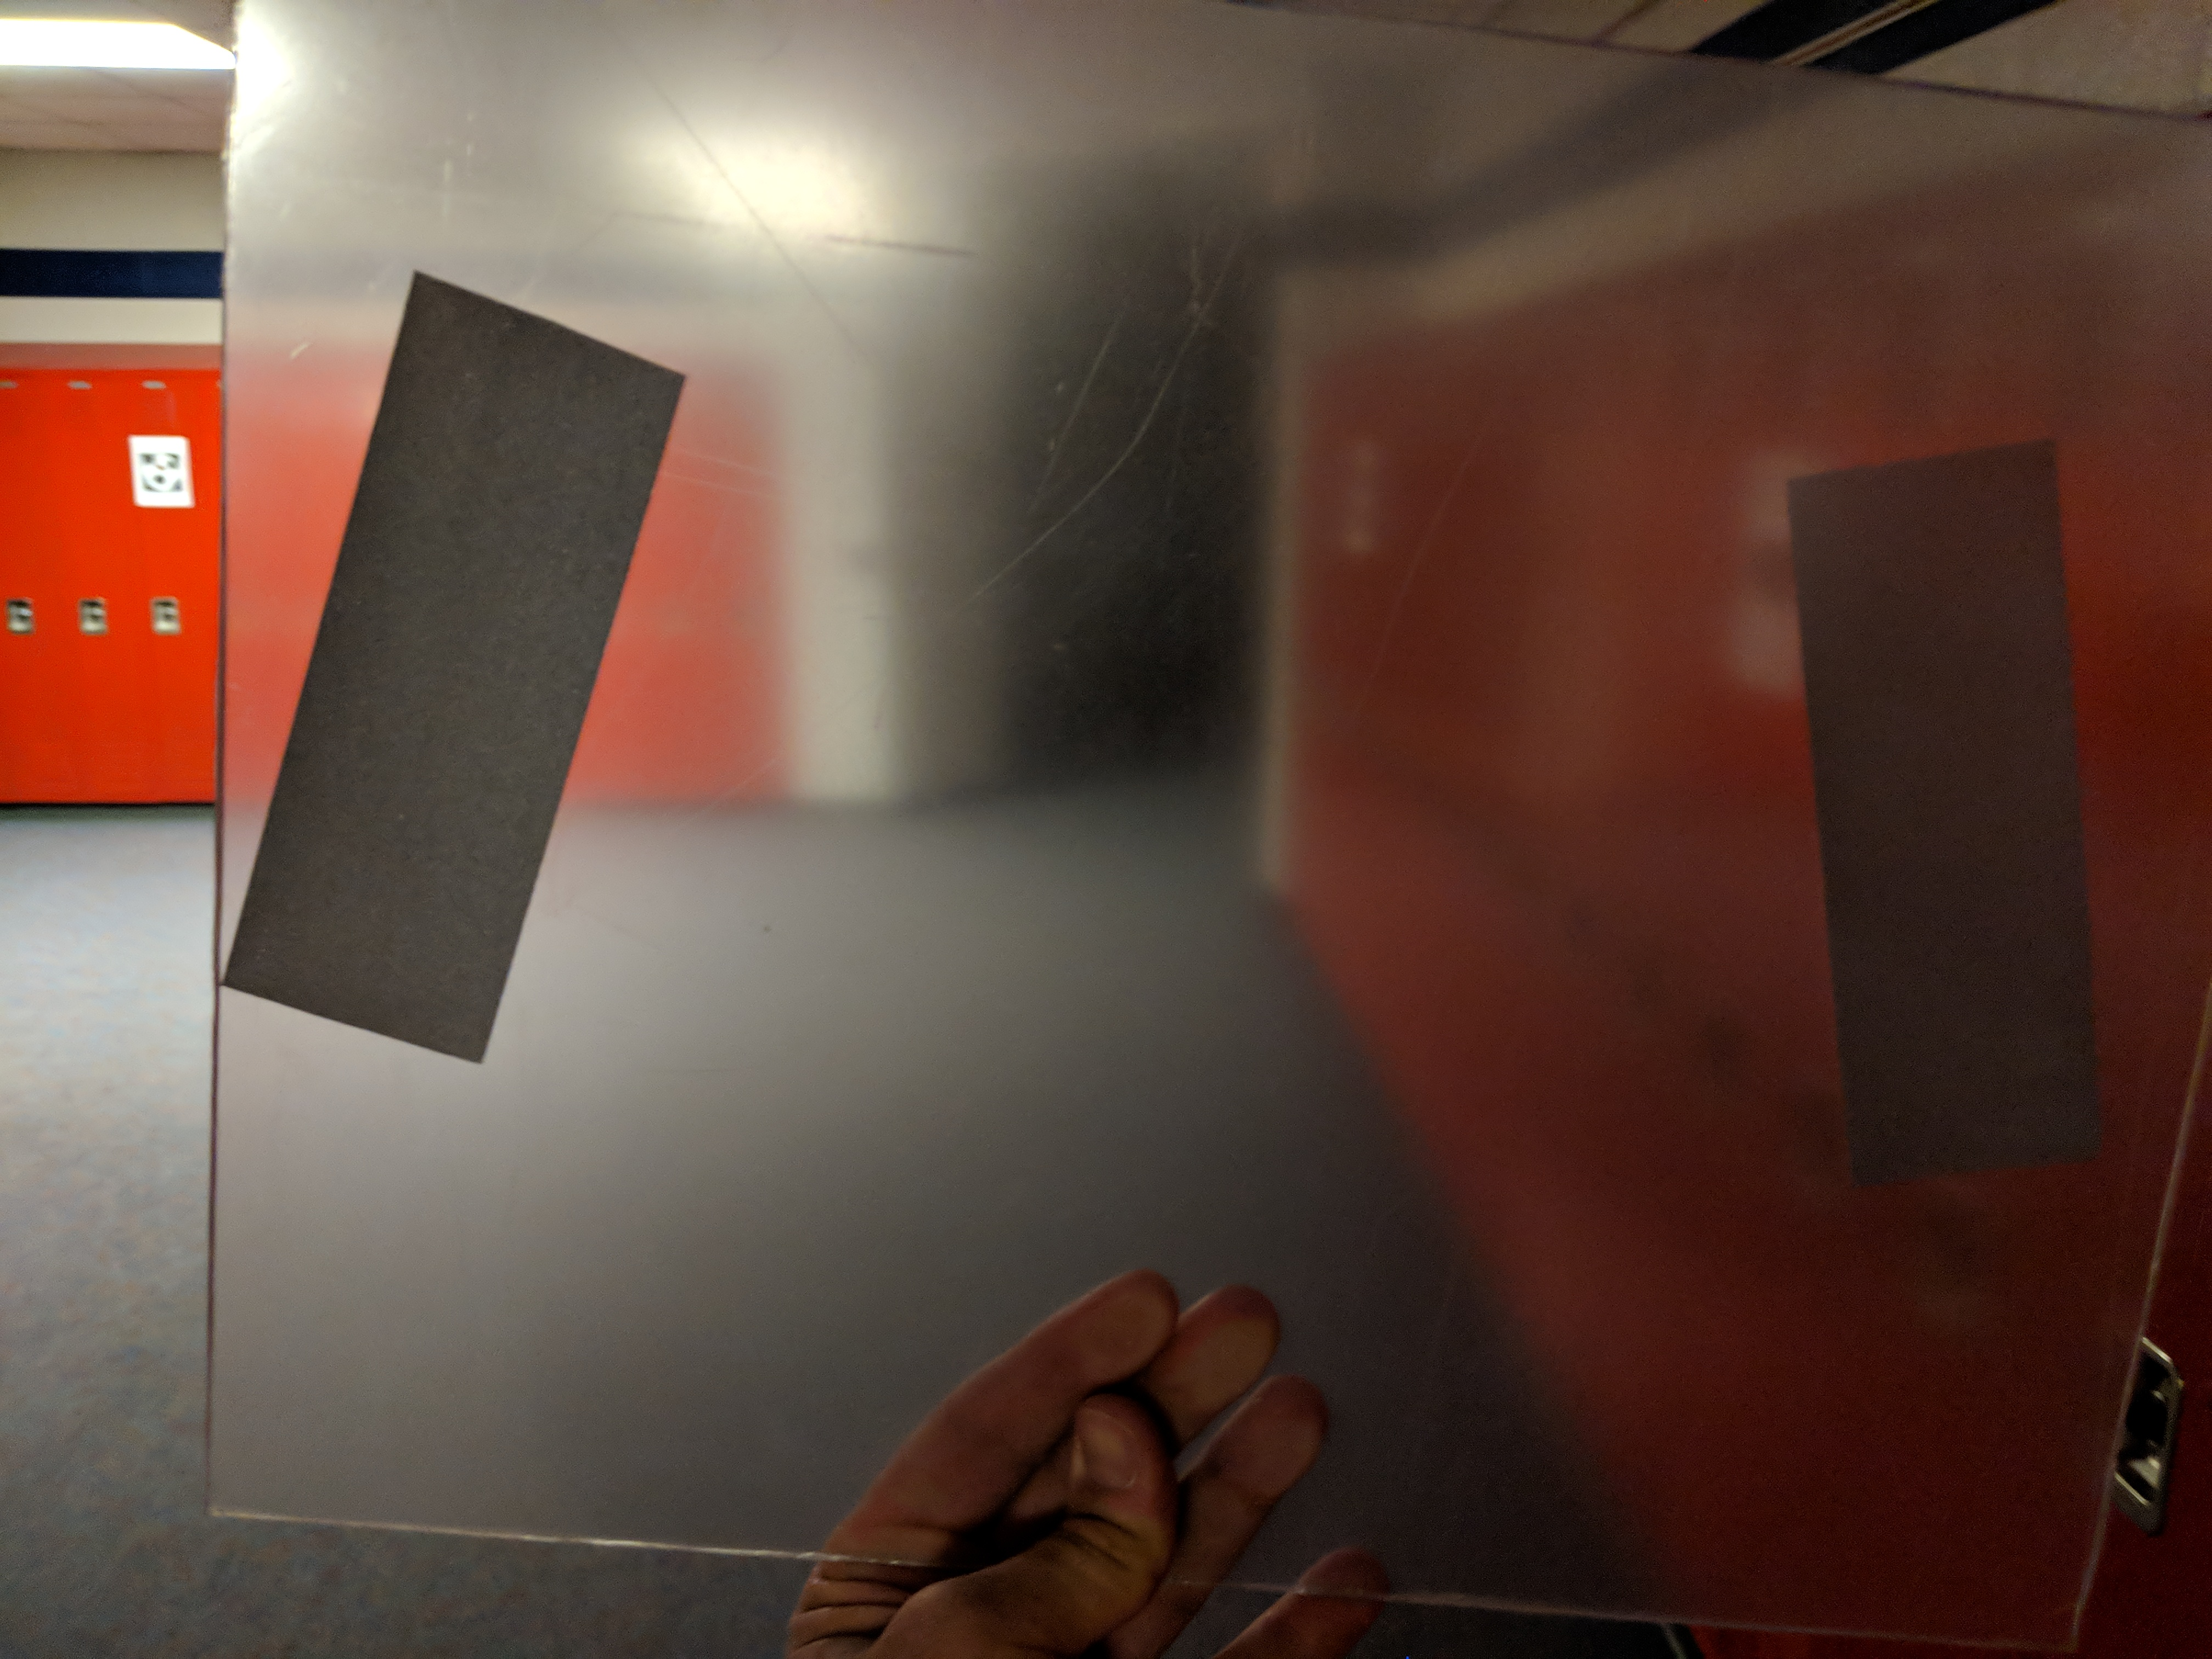vision_target: (211, 261, 2137, 1204)
